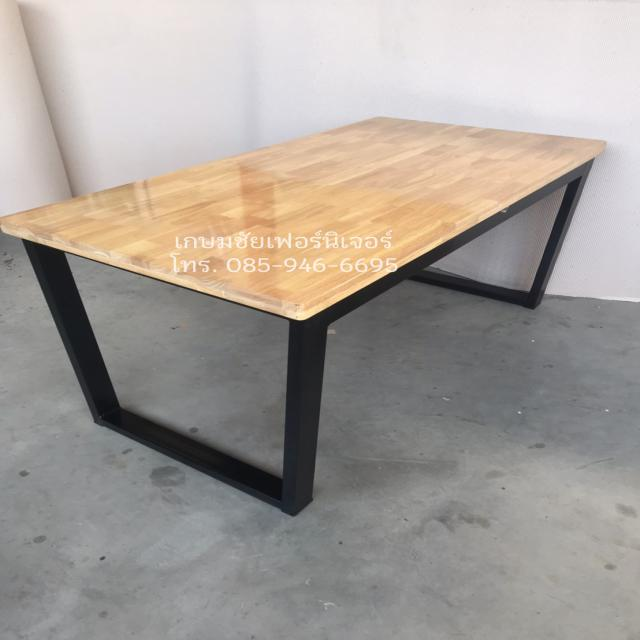table: (10, 98, 635, 518)
